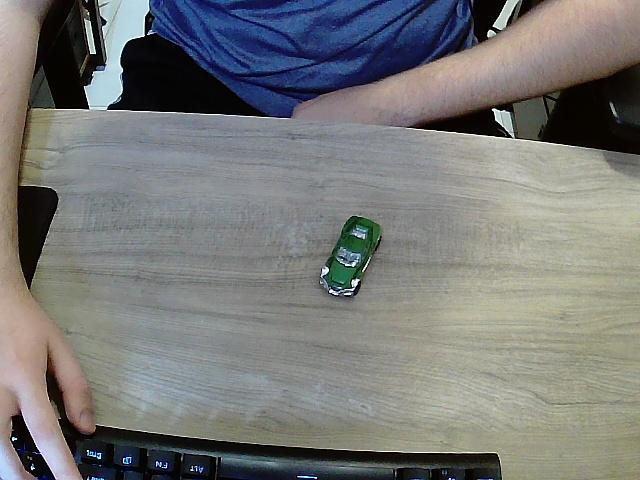Carro: (320, 217, 382, 299)
